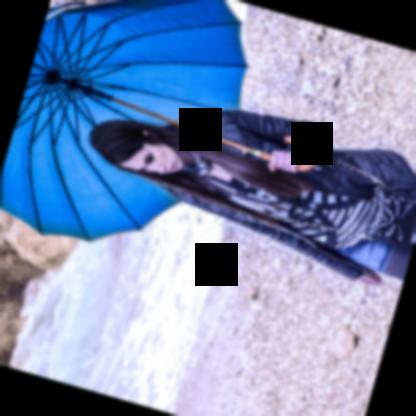handbag: (247, 187, 416, 247), (323, 146, 416, 190)
